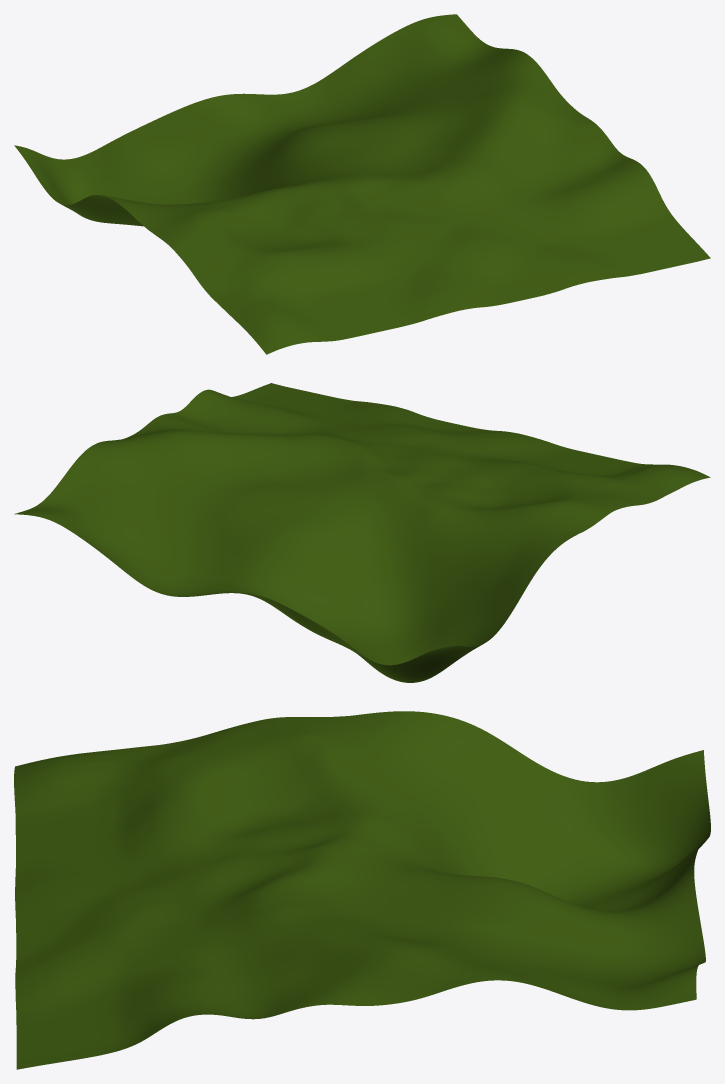
The model's file is GEO-ground_back_001.obj.
3 renders of one model, top to bottom at view 1: azimuth 30°, elevation 25°; view 2: azimuth 150°, elevation 25°; view 3: azimuth 270°, elevation 25°, orthographic. The views are drawn at different scales.
Parts seen in each view (by area): view 1: GEO-ground_back.001; view 2: GEO-ground_back.001; view 3: GEO-ground_back.001.
Part boxes in pixels (x1=…): GEO-ground_back.001: x1=14, y1=14, x2=710, y2=354; GEO-ground_back.001: x1=14, y1=383, x2=710, y2=682; GEO-ground_back.001: x1=14, y1=711, x2=710, y2=1069.
Size of the model in its own units: 19.71 by 4.38 by 20.1.
